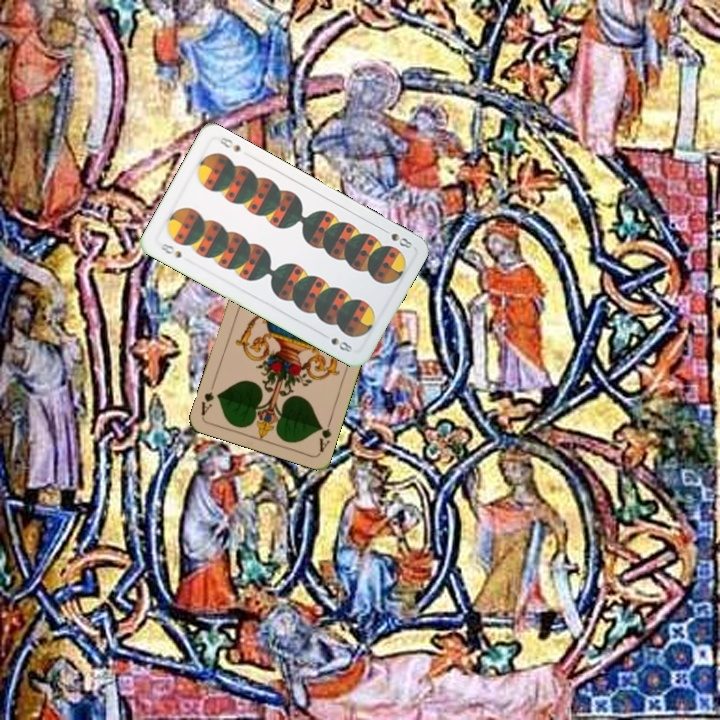GA: (315, 415, 334, 455)
S8: (377, 224, 415, 251), (156, 239, 184, 261)
